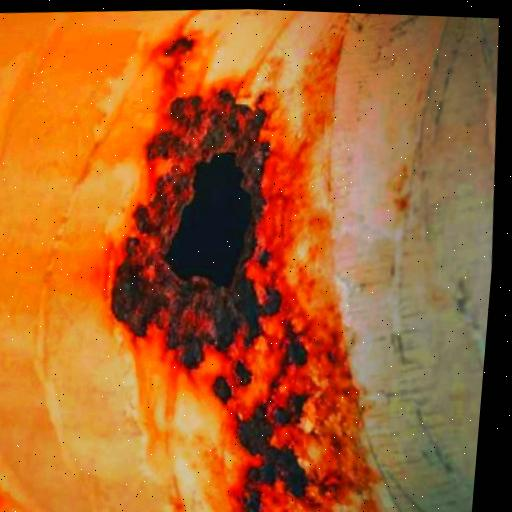corrosion: (76, 37, 376, 512)
